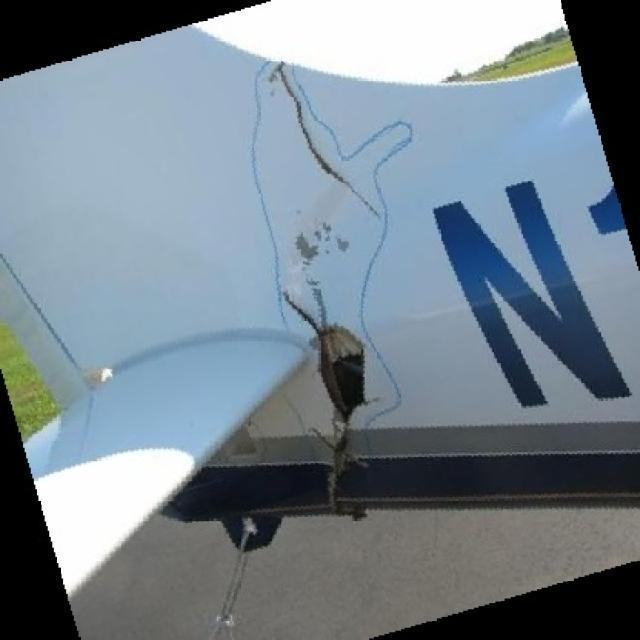crack: (269, 75, 374, 217), (287, 85, 378, 217), (316, 326, 365, 426)
